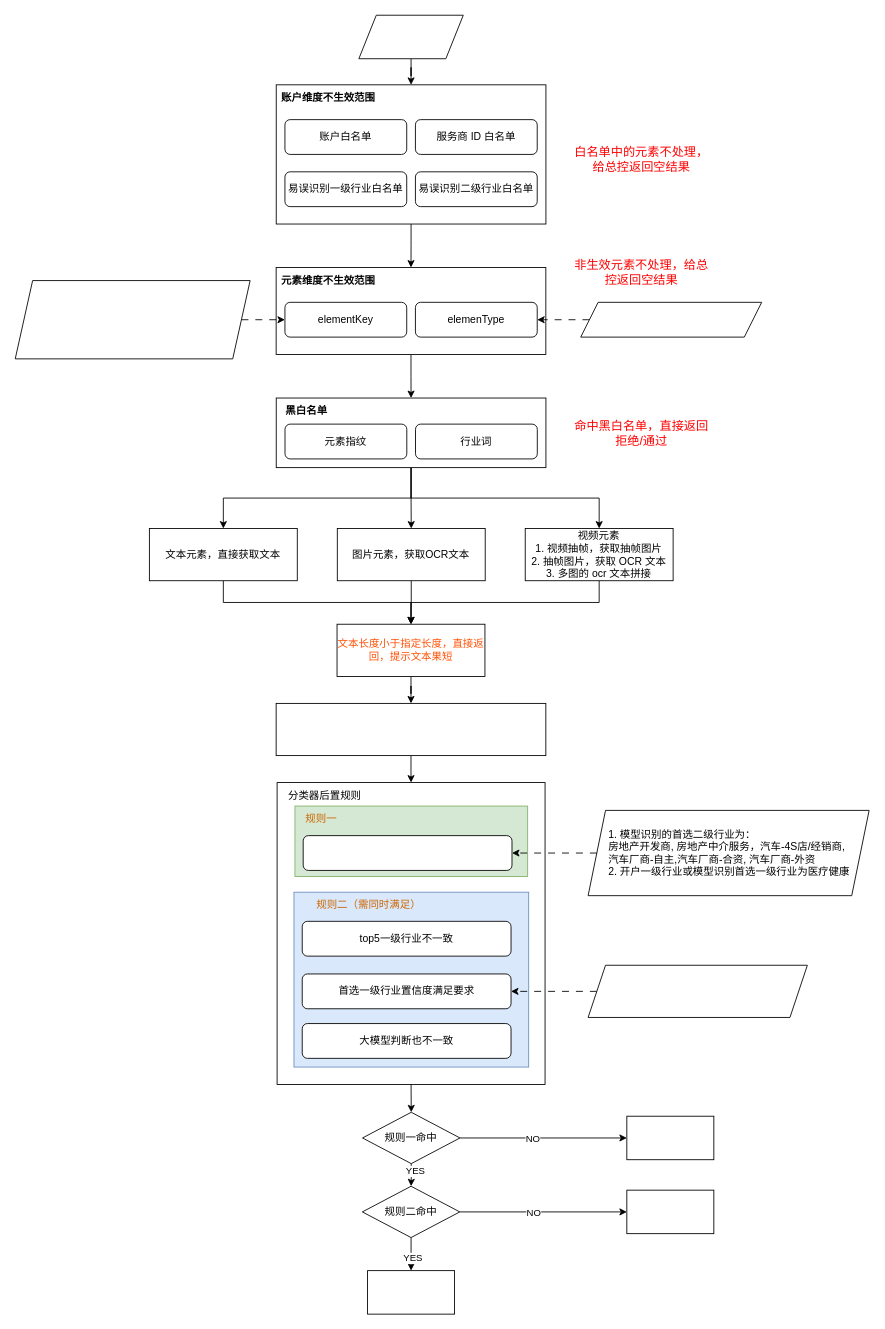
The diagram is 885 pixels wide and 1329 high, and some of its shapes have lost their labels. Each missing label, with the centre of its shape:
"ReviewData" belongs at point 410,36.
"TEXT / IMAGE / VIDEO" belongs at point 671,319.
"txt / desc / wx_video_description img / image / video / wx_video_url" belongs at point 132,319.
"根据不同行业设定不同置信度标准" belongs at point 697,990.
"覆盖行业名单规则" belongs at point 407,852.
"调用行业分类器接口，获取模型推荐 5 个行业" belongs at point 410,729.
"返回NOT_SURE" belongs at point 670,1137.
"返回PASS" belongs at point 670,1211.
"返回REJECT" belongs at point 411,1292.
